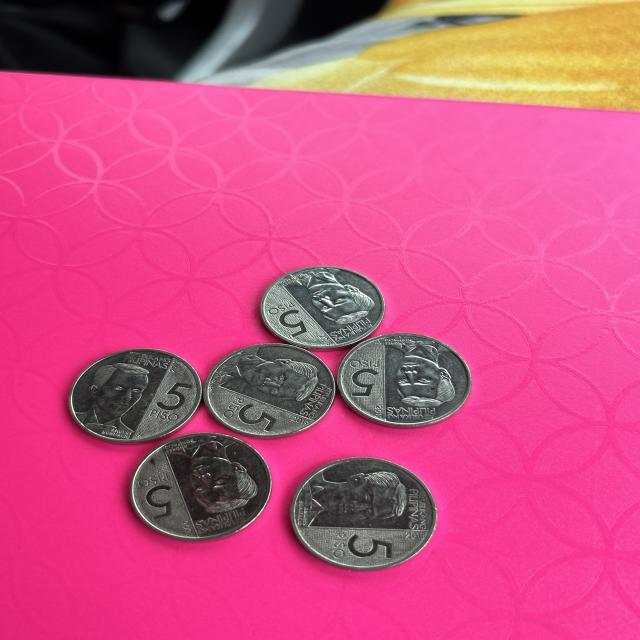5_New_Front: (326, 532, 396, 572), (215, 393, 280, 433), (135, 472, 182, 522), (147, 376, 195, 421), (268, 299, 316, 342), (344, 354, 382, 403)
